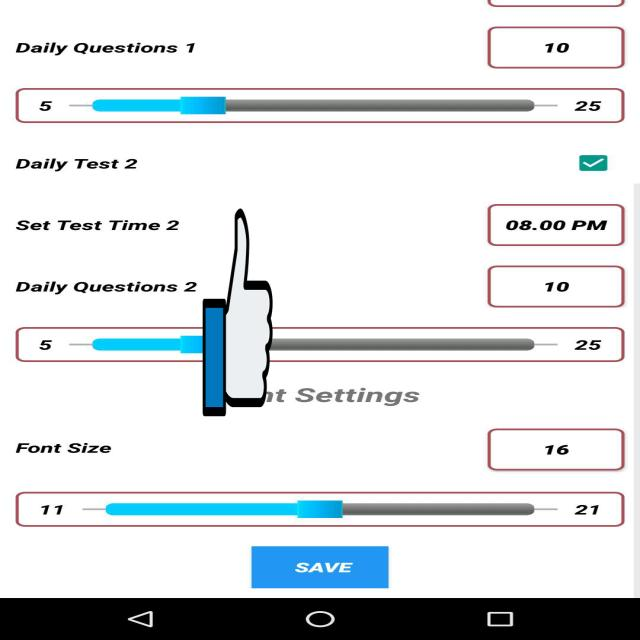privacy zuckering: (202, 204, 272, 421)
